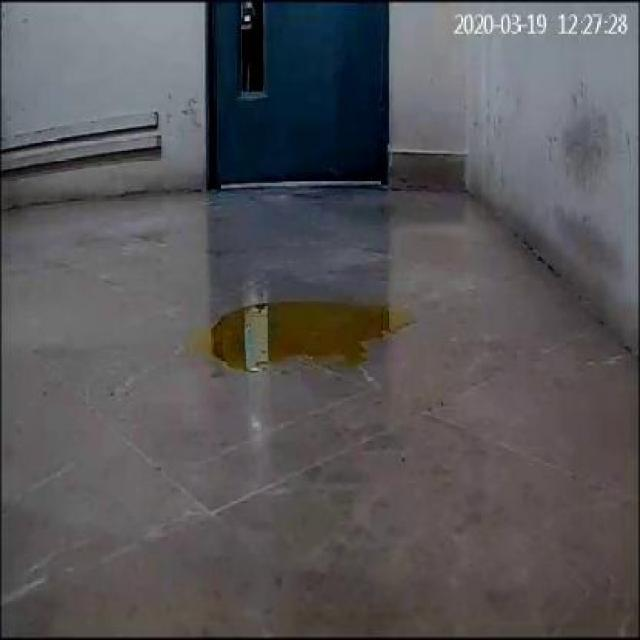spill: (183, 294, 411, 376)
